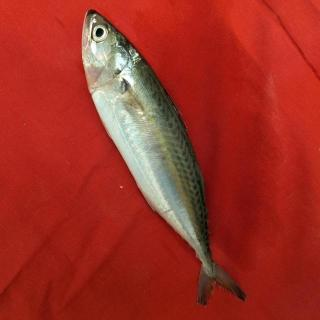Ikan: (65, 8, 261, 316)
